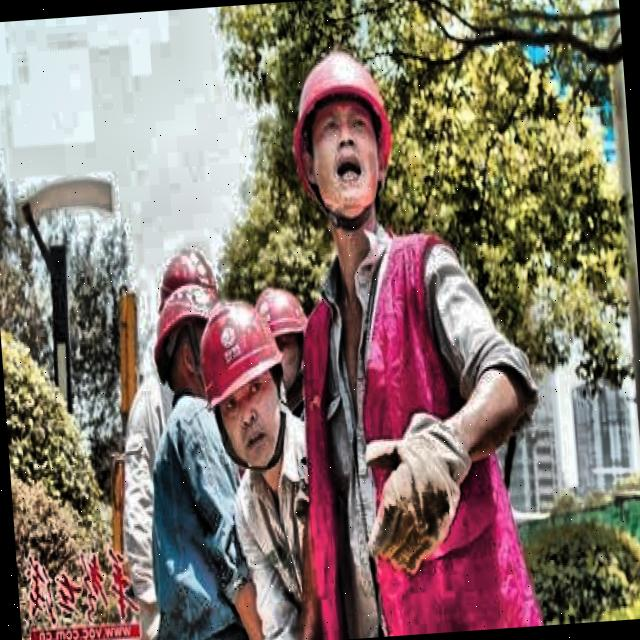helmet: (277, 26, 409, 244), (206, 291, 286, 451), (147, 282, 222, 406), (258, 285, 306, 386)
